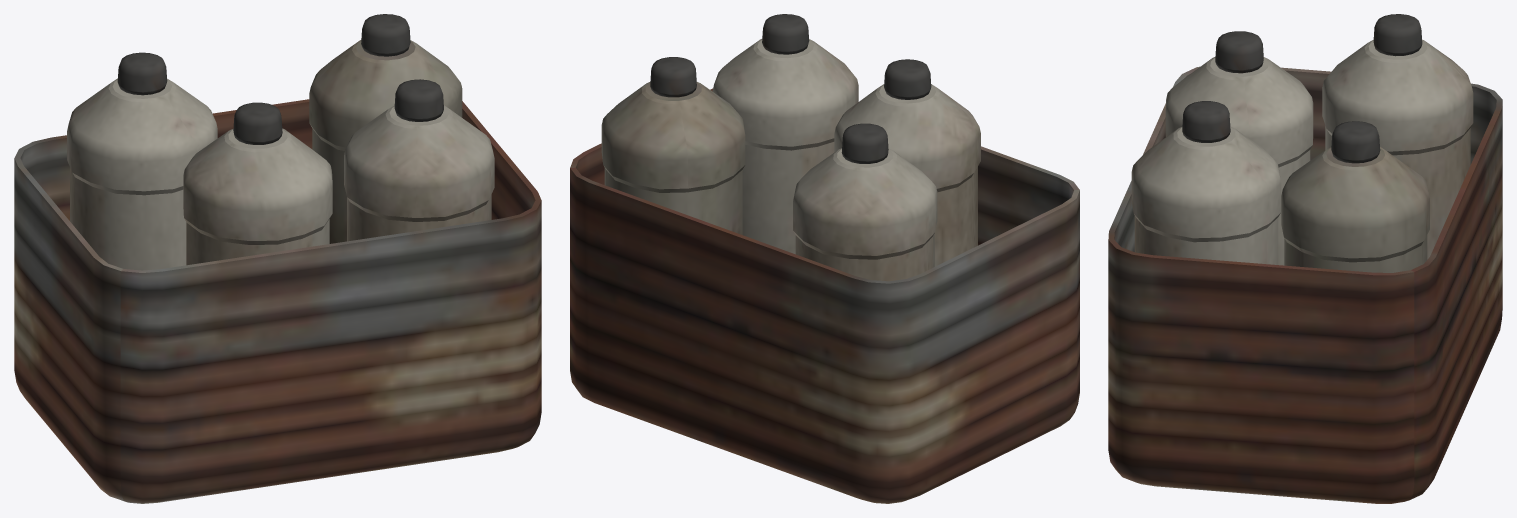
The model's file is prop_small_009.glb.
3 views of the same model, side by side, from view 1: azimuth 30°, elevation 25°; view 2: azimuth 150°, elevation 25°; view 3: azimuth 270°, elevation 25° (orthographic). The views are drawn at different scales.
Visible parts, largest first — view 1: Building_12_014; view 2: Building_12_014; view 3: Building_12_014.
Part boxes in pixels (bbox=[...]): Building_12_014: bbox=[14, 14, 541, 503]; Building_12_014: bbox=[570, 14, 1079, 503]; Building_12_014: bbox=[1108, 14, 1502, 503].
Bounding box in the file's own units: 0.8 × 0.6045 × 0.63.
1 material, 1 textured.
